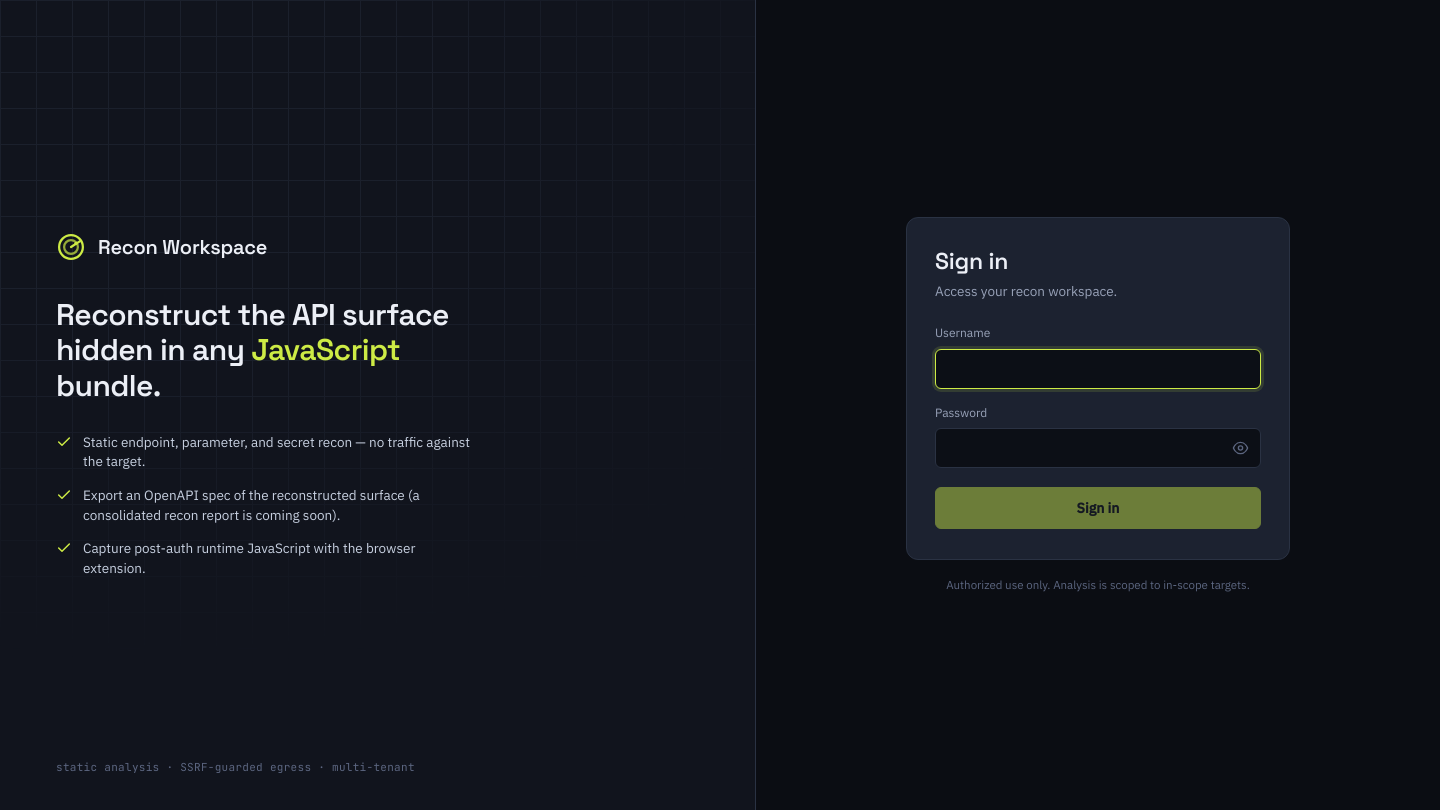
Test: auth gate + login › shows an error on invalid credentials and stays on the login screen
Type "admin" into the field labelled "Username".
click(1098, 369); type("admin")  # box [935,349,1261,389]
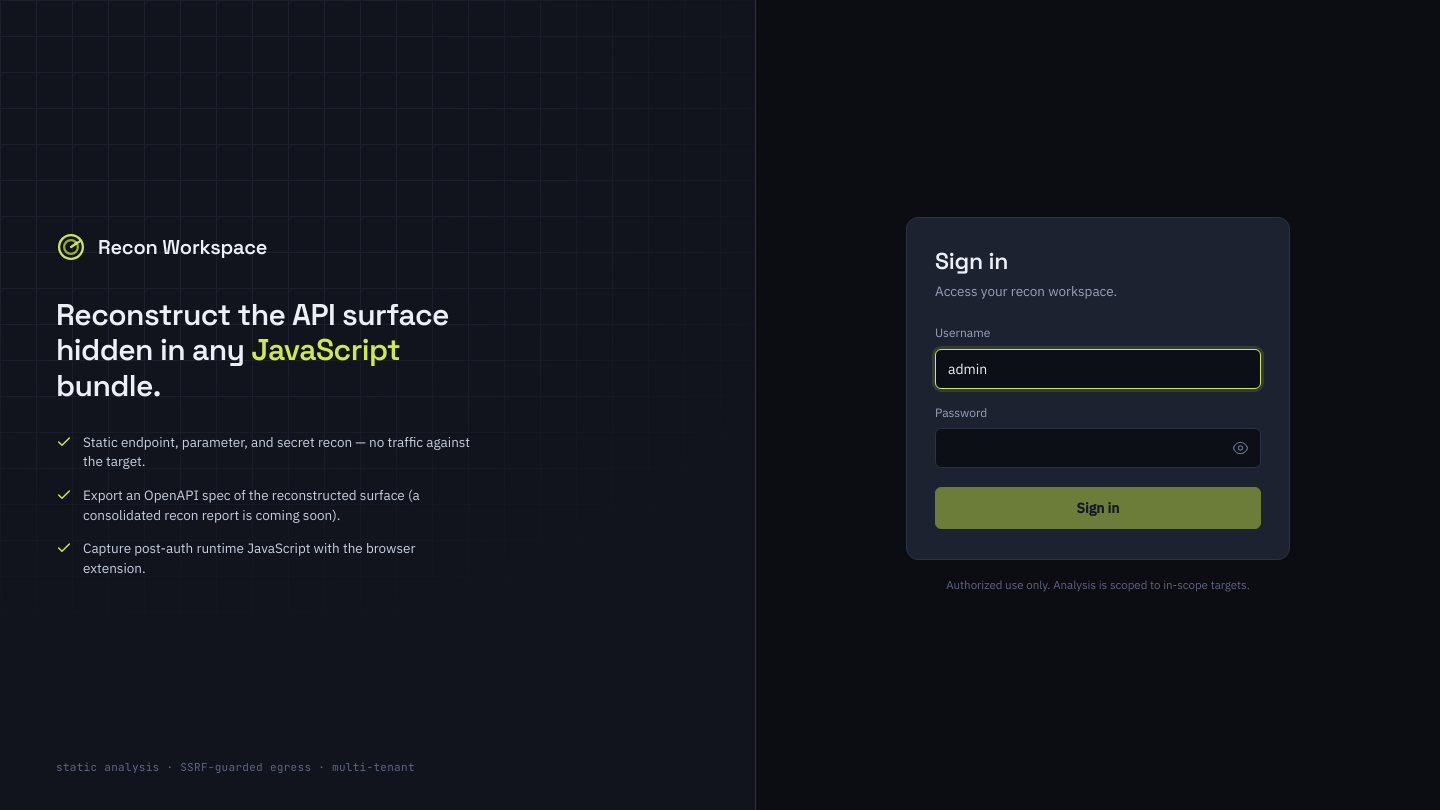
Type "wrong" into the password field labelled "Password".
click(1098, 448); type("wrong")  # box [935,428,1261,468]
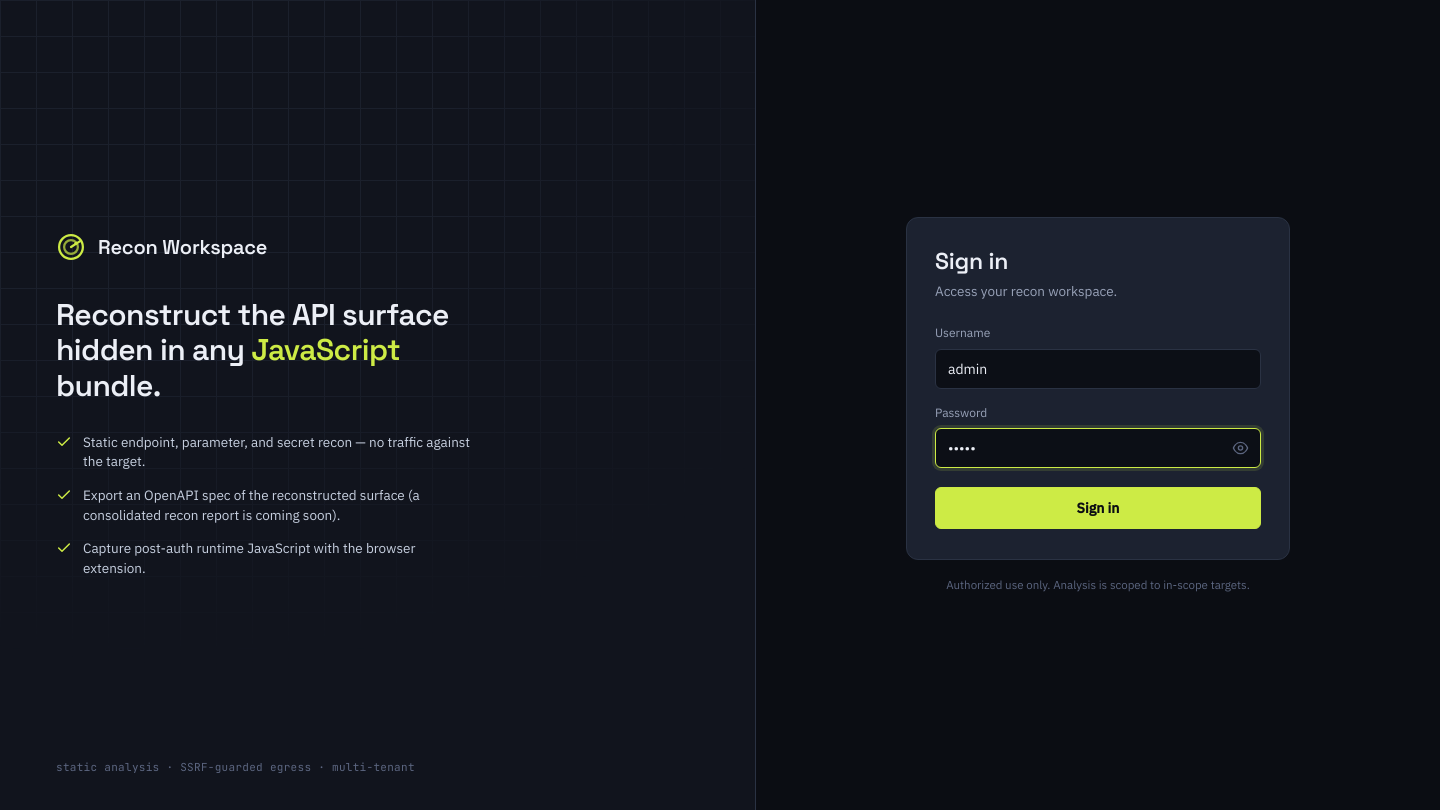
Click the button "Sign in".
click(1098, 508)  # box [935,487,1261,529]
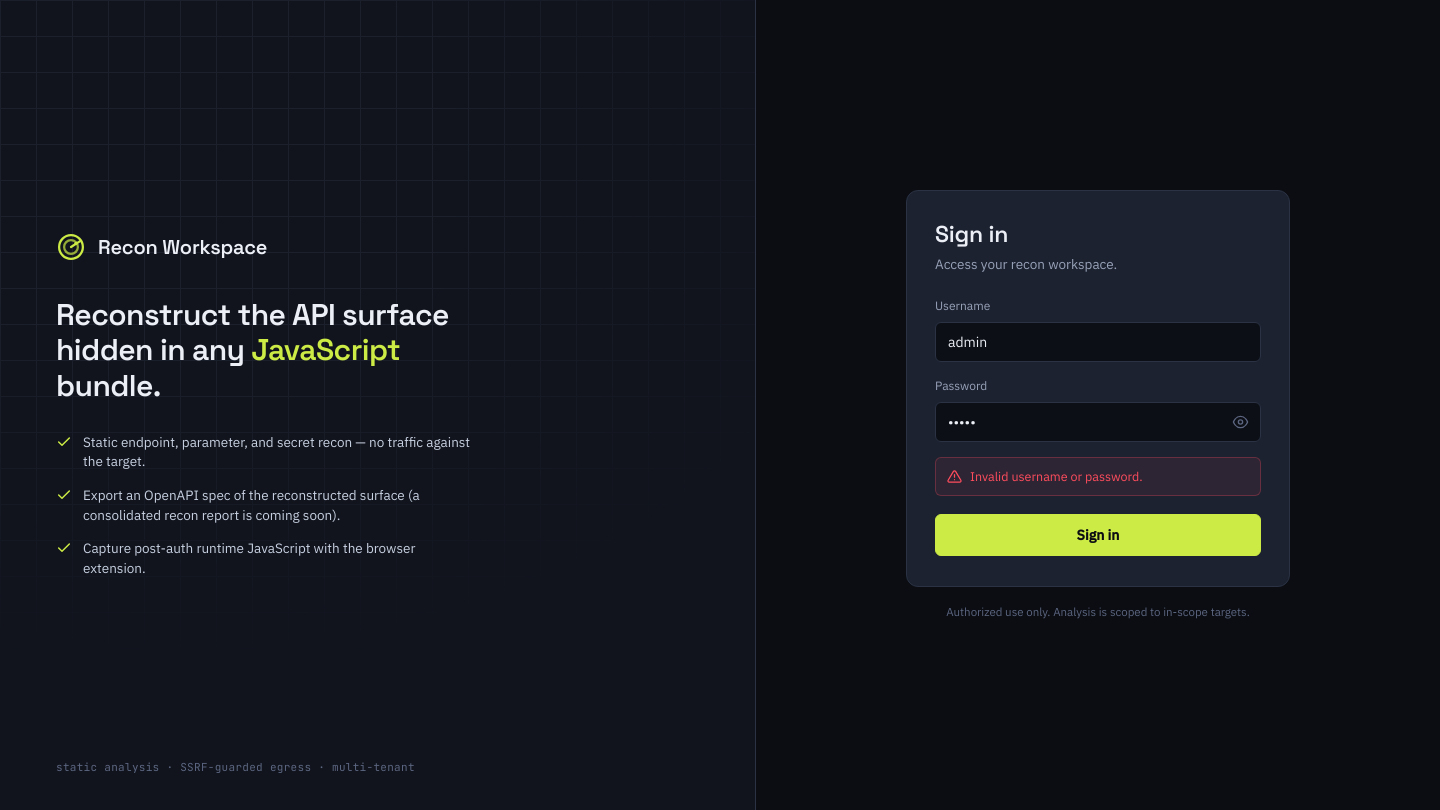
expect the message shows "Invalid username or password": met, box [970,468,1143,484]
